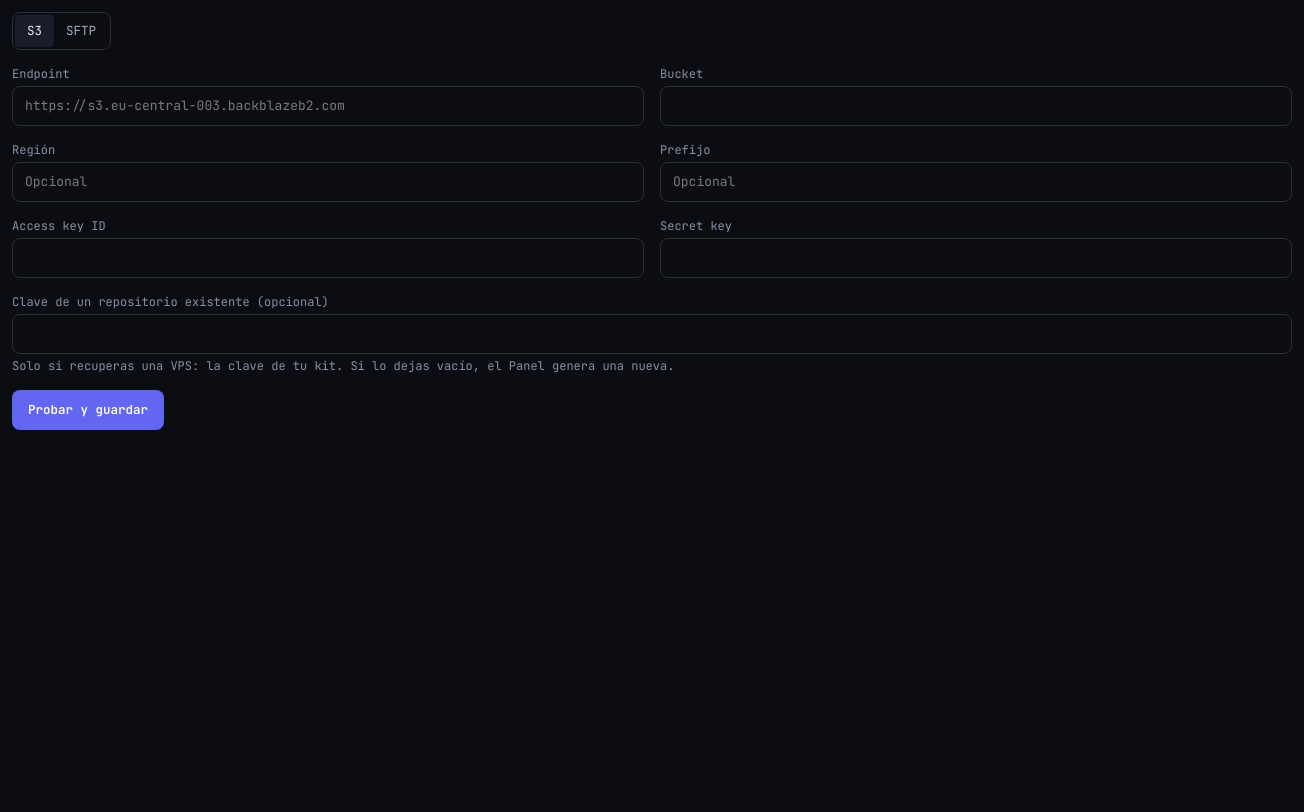
DestinoBackupForm › sin clave guardada ofrece usar la de un repositorio existente
Type "https://s3.x" into the field labelled "Endpoint" at (328, 106), box [12,86,644,126]
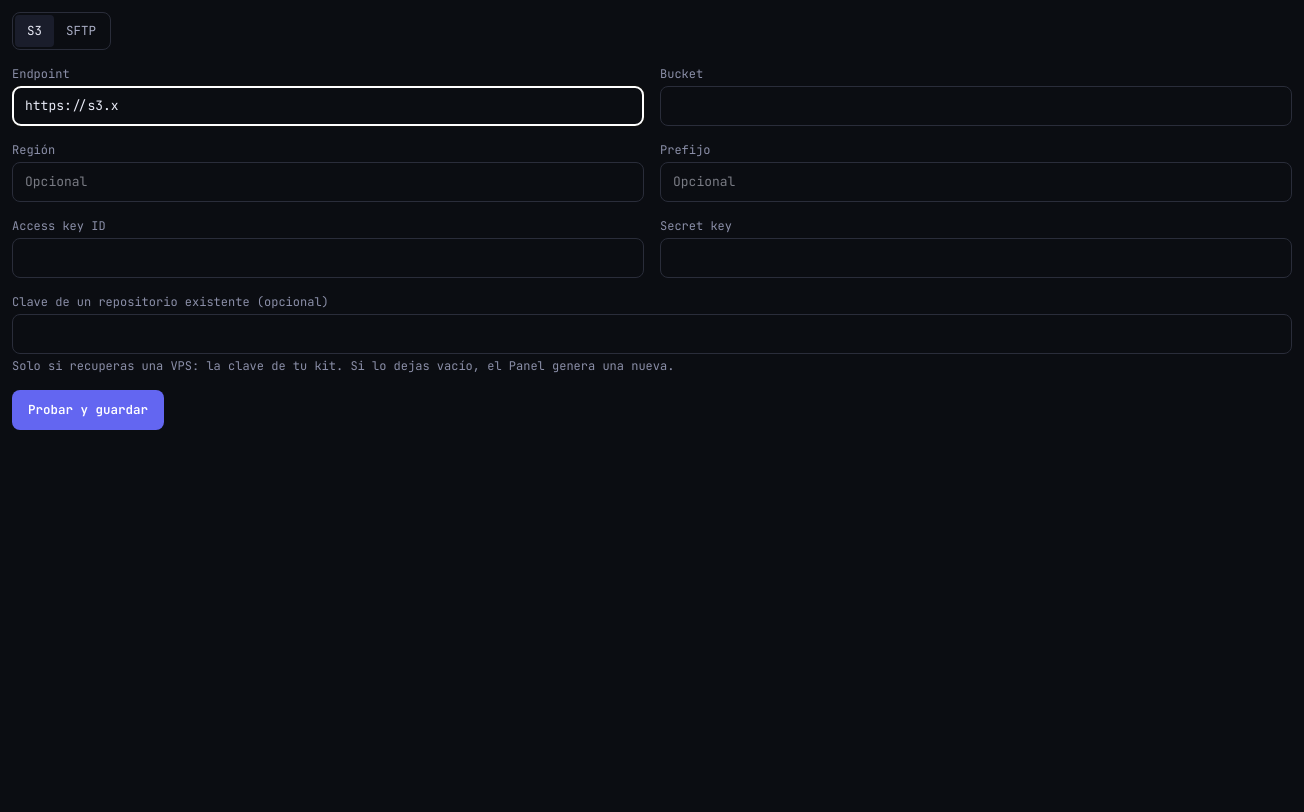
Type "b1" into the field labelled "Bucket" at (976, 106), box [660,86,1292,126]
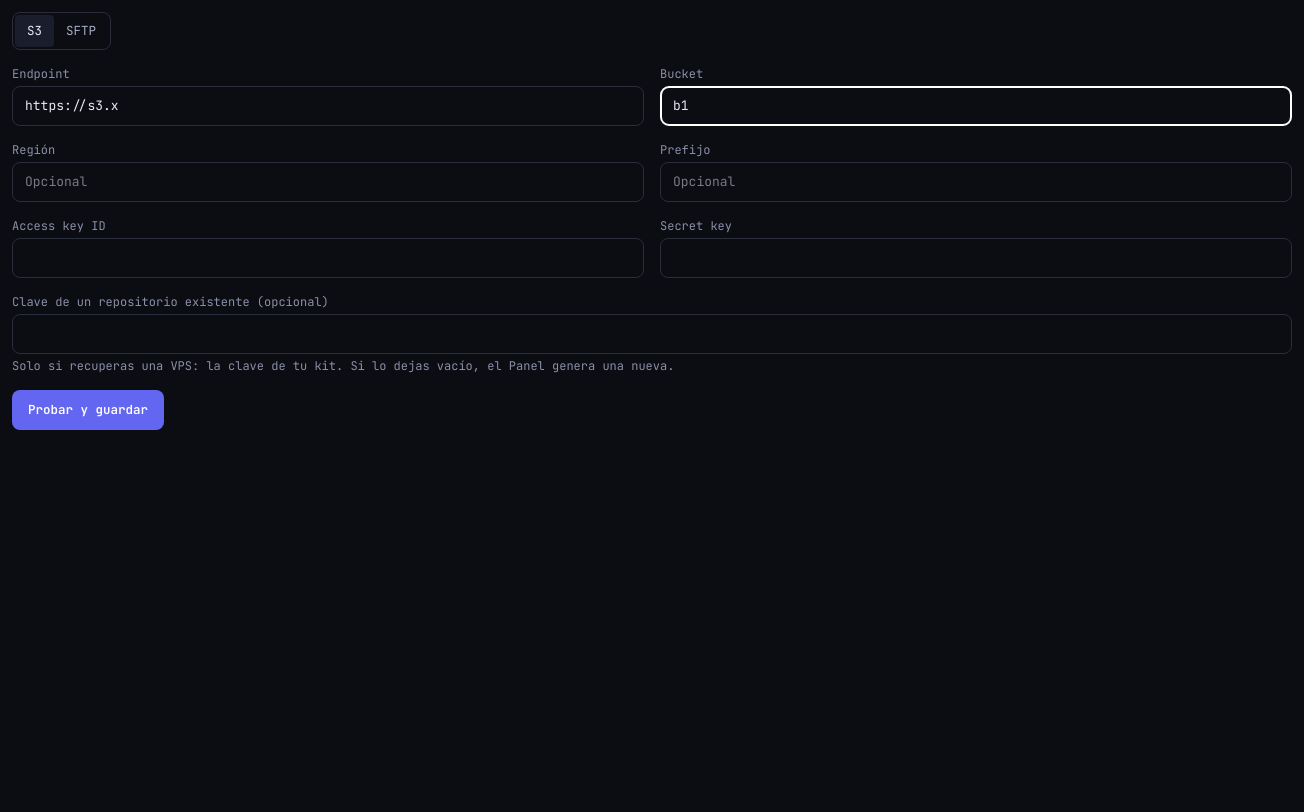
Type "AK" into the field labelled "Access key ID" at (328, 258), box [12,238,644,278]
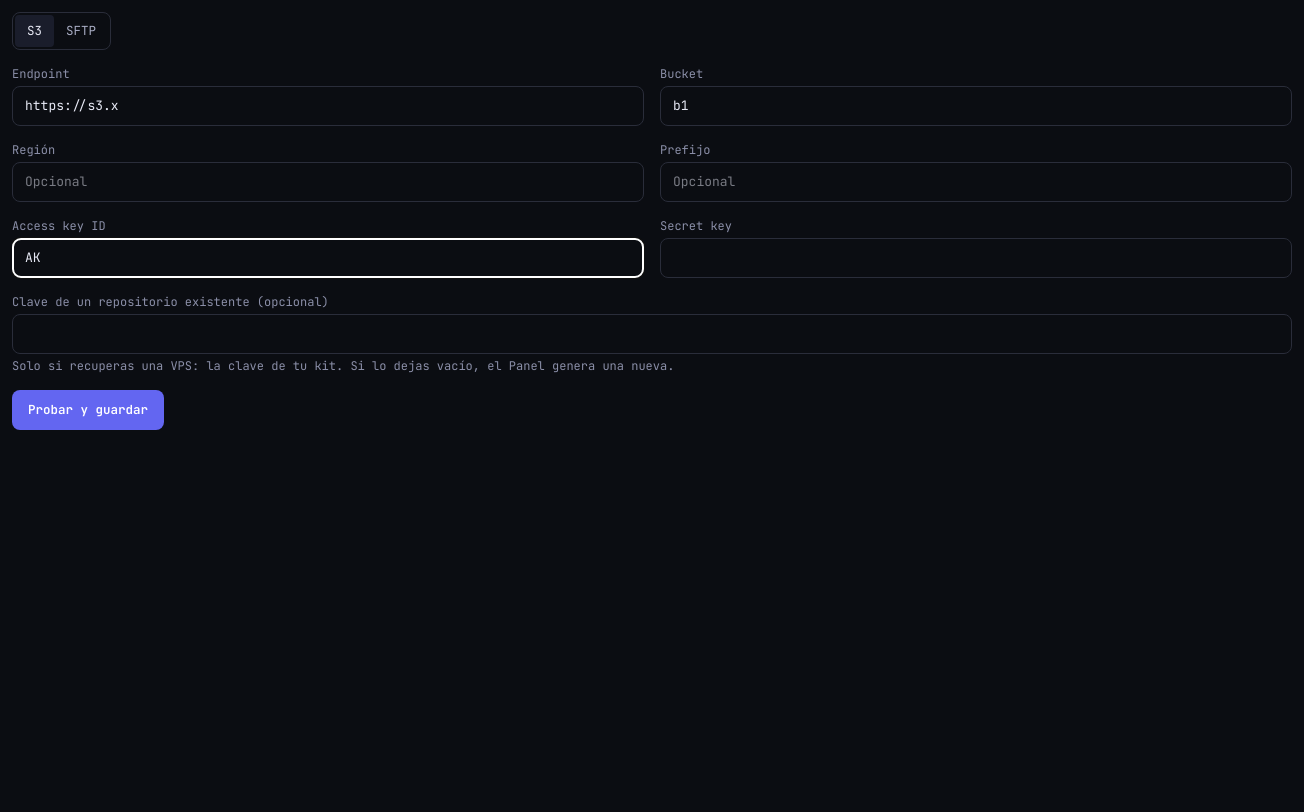
Type "SK" into the password field labelled "Secret key" at (976, 258), box [660,238,1292,278]
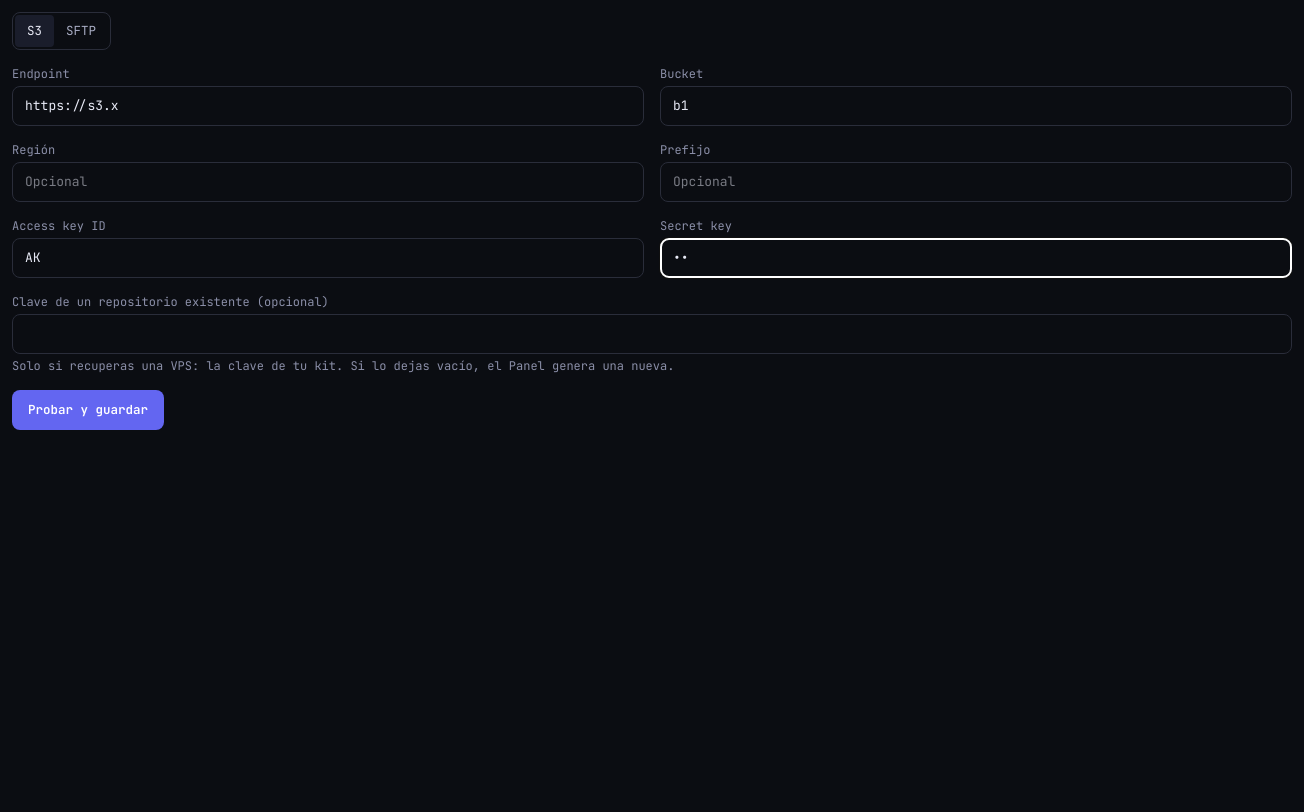
Type "CLAVE-DEL-KIT-0123456789" into the password field labelled "Clave de un repositorio existente (opcional)" at (652, 334), box [12,314,1292,354]
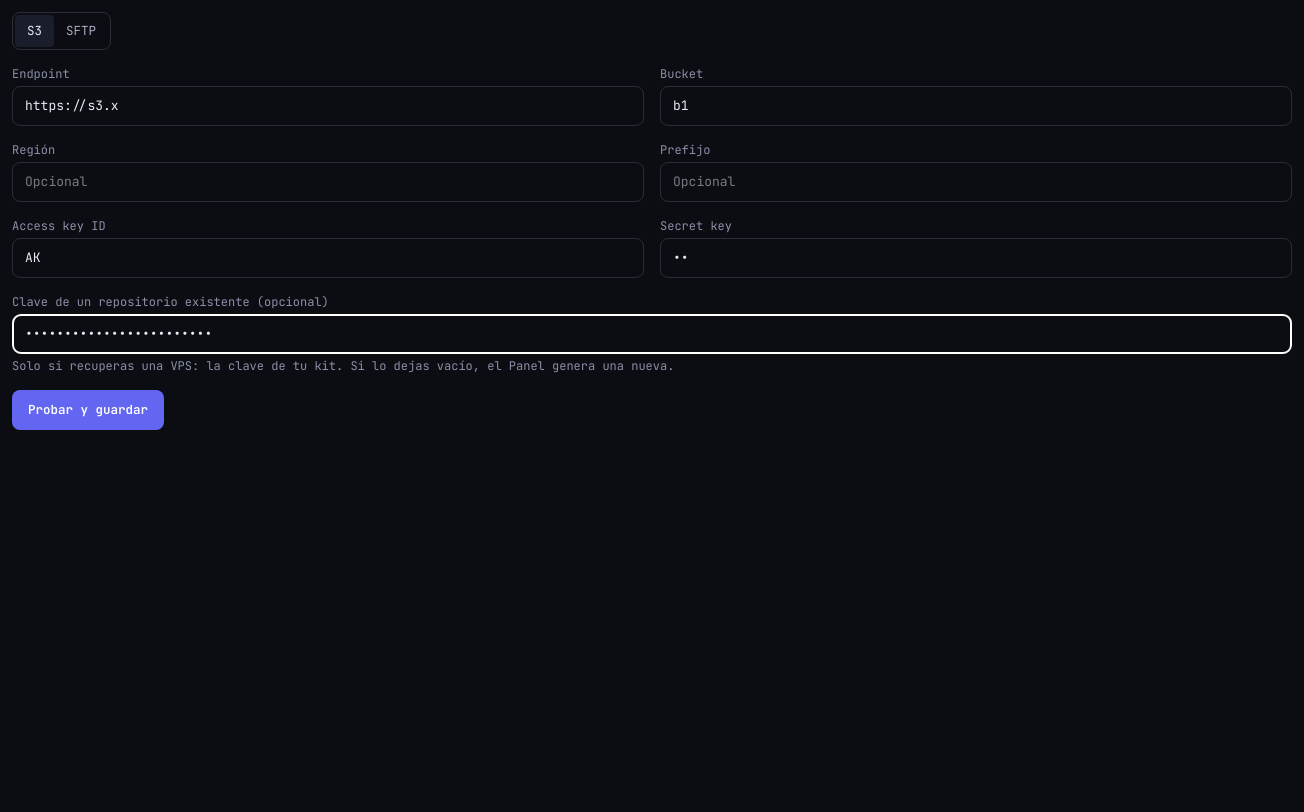
Click the button "Probar y guardar" at (88, 410), box [12,390,164,430]
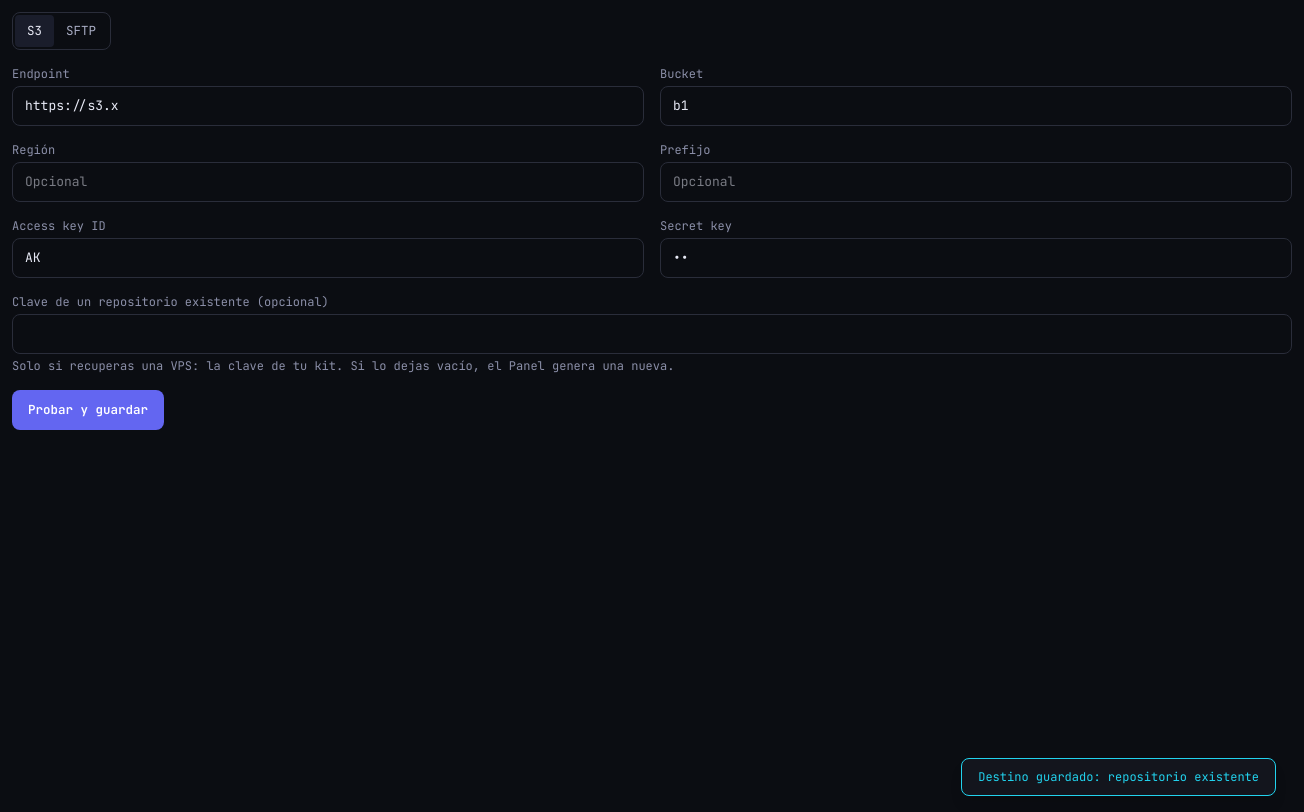
Check: the text "Destino guardado: repositorio existente" is shown, box [961,758,1276,796]
